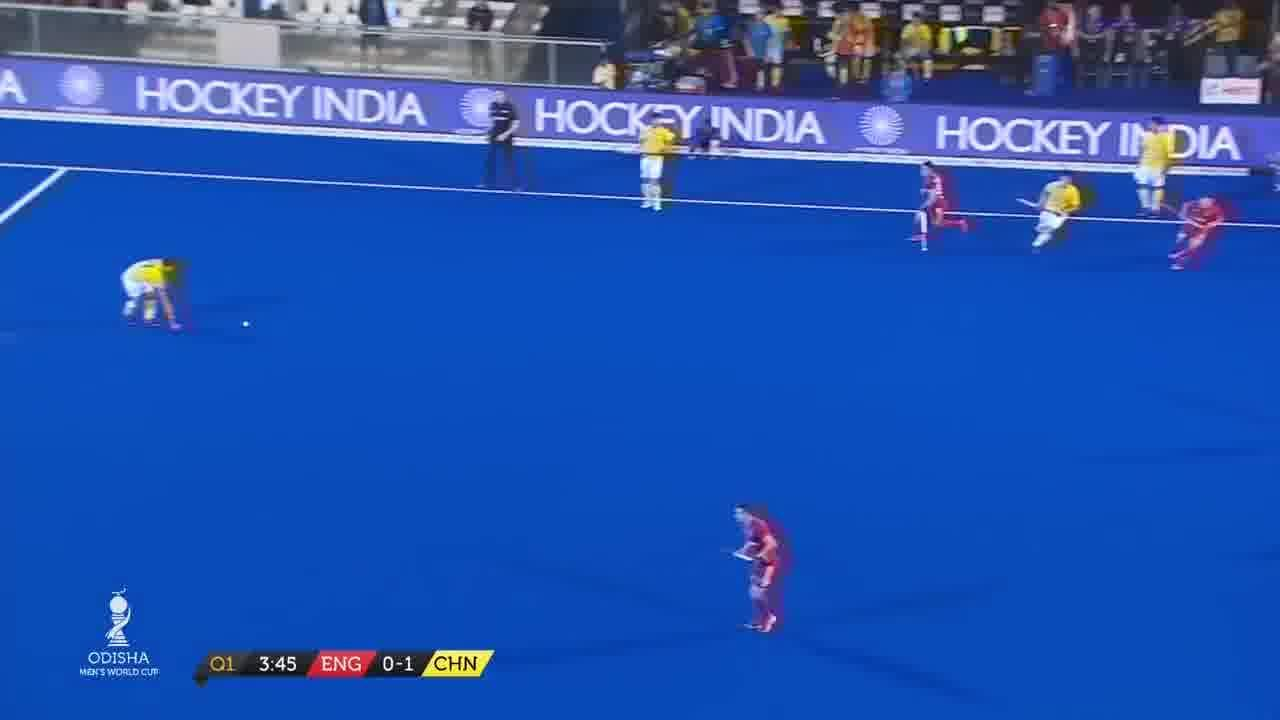ball: (233, 319, 254, 332)
